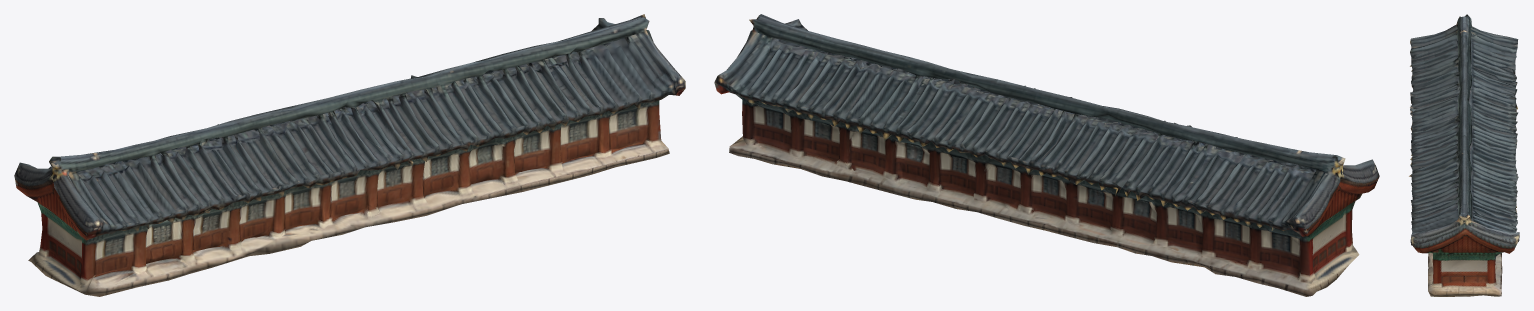
The model's file is 경복궁_회랑.glb.
3 views of the same model, side by side, from view 1: azimuth 30°, elevation 25°; view 2: azimuth 150°, elevation 25°; view 3: azimuth 270°, elevation 25° (orthographic). The views are drawn at different scales.
Parts seen in each view (by area): view 1: texture_mapping; view 2: texture_mapping; view 3: texture_mapping.
Boxes of the visible parts, x1,y1,x2,y2 form: texture_mapping: (14,14,685,296); texture_mapping: (714,14,1379,296); texture_mapping: (1409,14,1519,296).
Bounding box in the file's own units: 0.9977 × 0.2 × 0.2326.
1 material, 1 textured.
